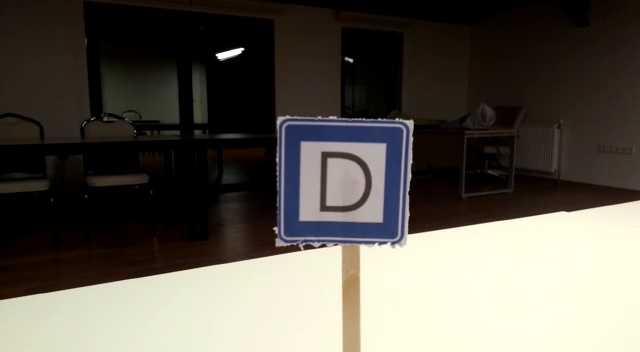durak: (277, 120, 411, 241)
